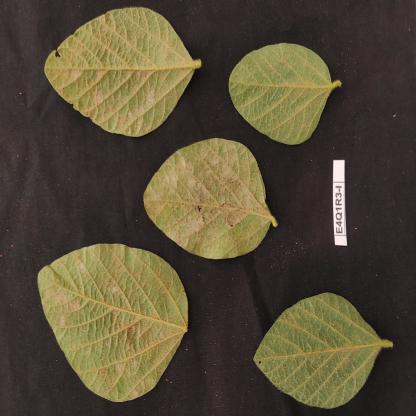label: (328, 153, 359, 248)
leaflets: (31, 240, 192, 408), (43, 2, 195, 140), (244, 274, 392, 415), (139, 133, 284, 258), (222, 36, 339, 148)
